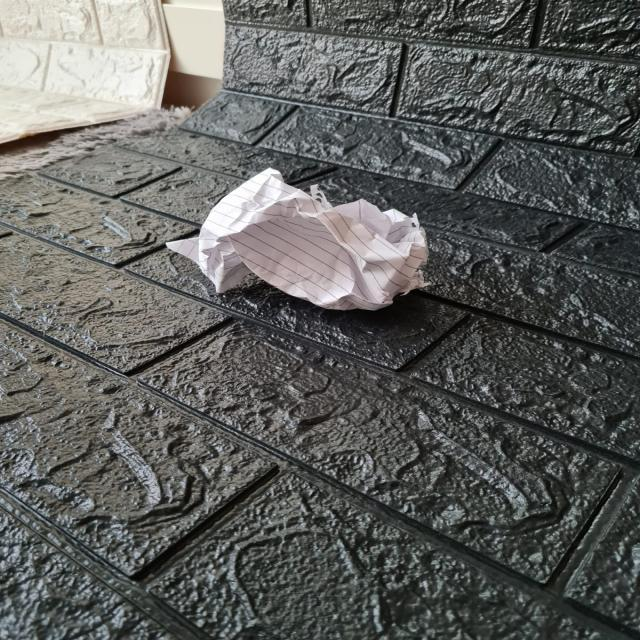Paper: (160, 169, 429, 309)
